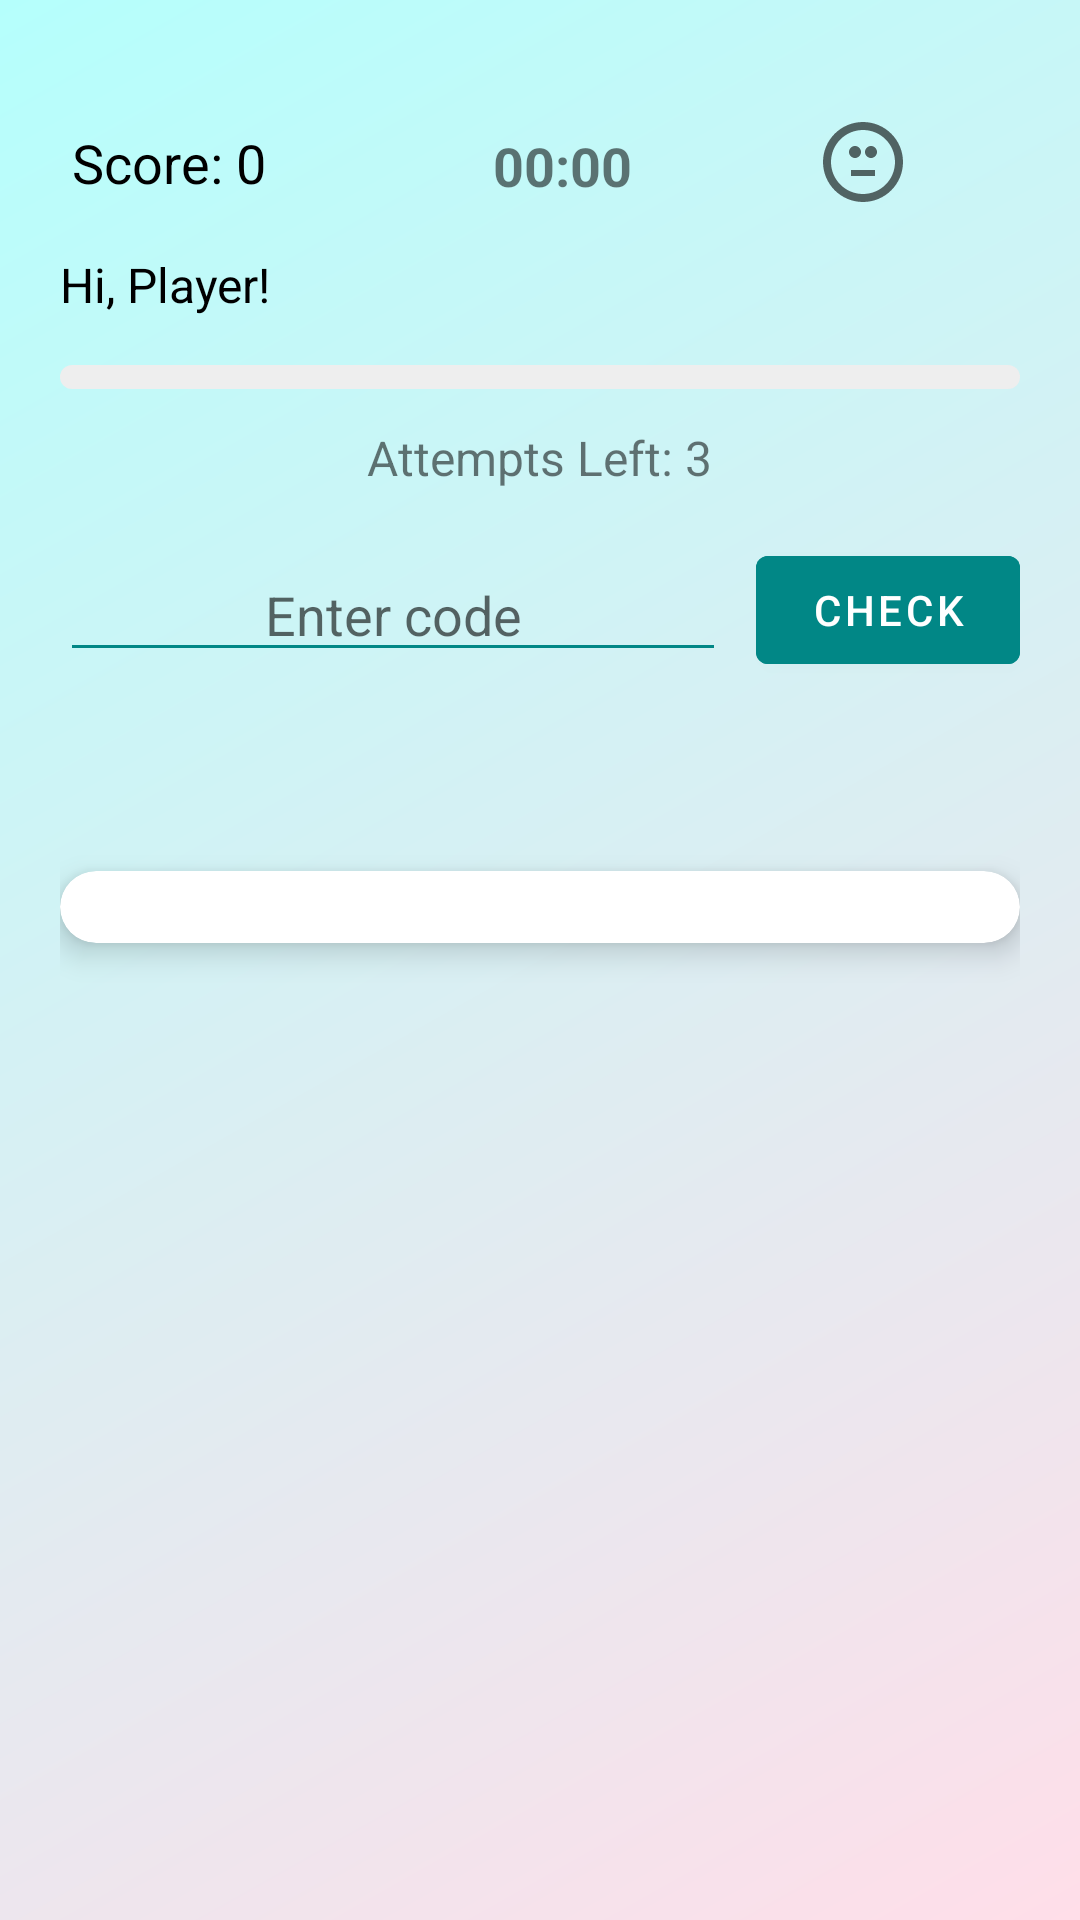

Locate icon controls on the screen. Image size 1080w x 1920h, boxes as (x1, y1, x2, y2).
mode neutral: (823, 122, 903, 202)
